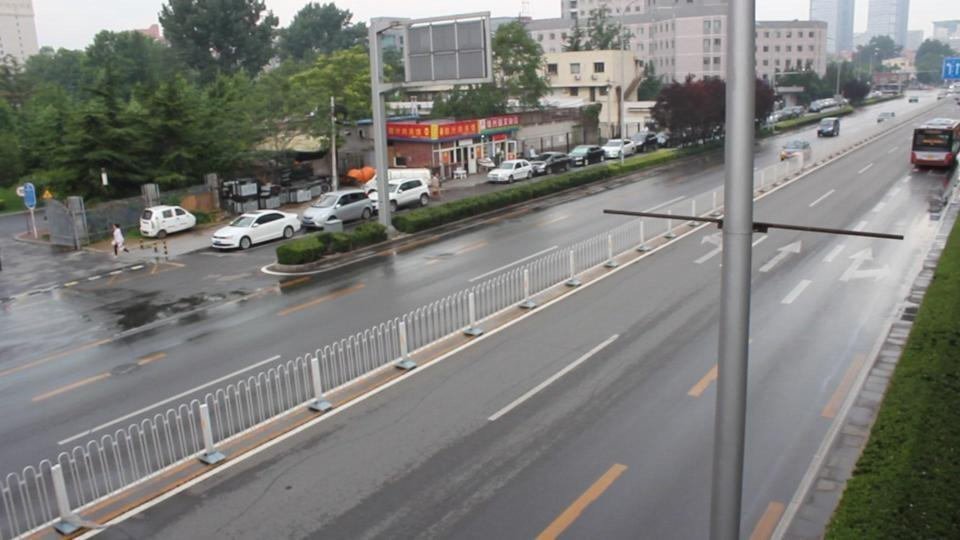car: (210, 210, 301, 252), (301, 190, 378, 233), (909, 122, 960, 173), (363, 179, 433, 212), (140, 204, 197, 238), (487, 160, 538, 185), (530, 152, 581, 175), (567, 145, 607, 165), (779, 138, 812, 161), (601, 138, 635, 160), (627, 132, 660, 152), (809, 96, 839, 112), (818, 117, 840, 138), (877, 111, 896, 123)
